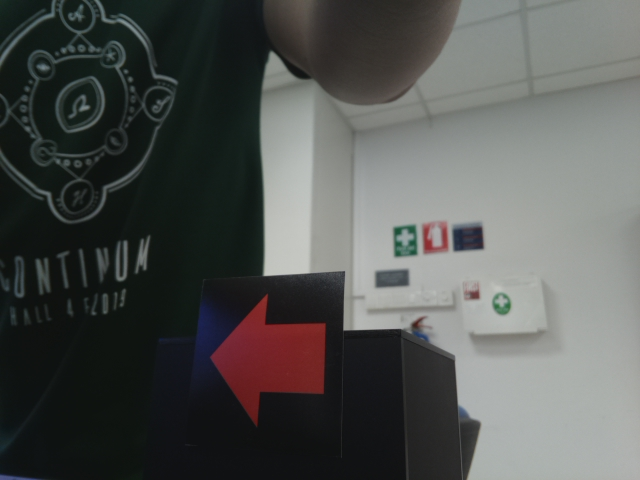left: (203, 291, 333, 429)
